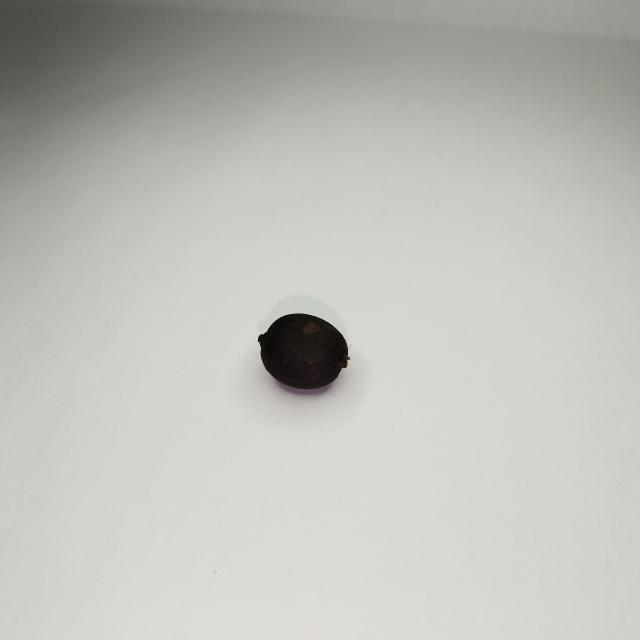Danado: (259, 314, 350, 392)
